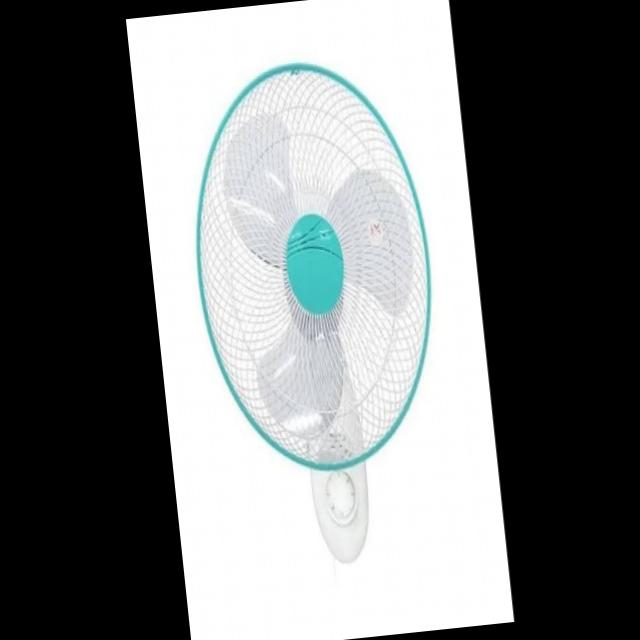fan: (166, 37, 464, 583)
